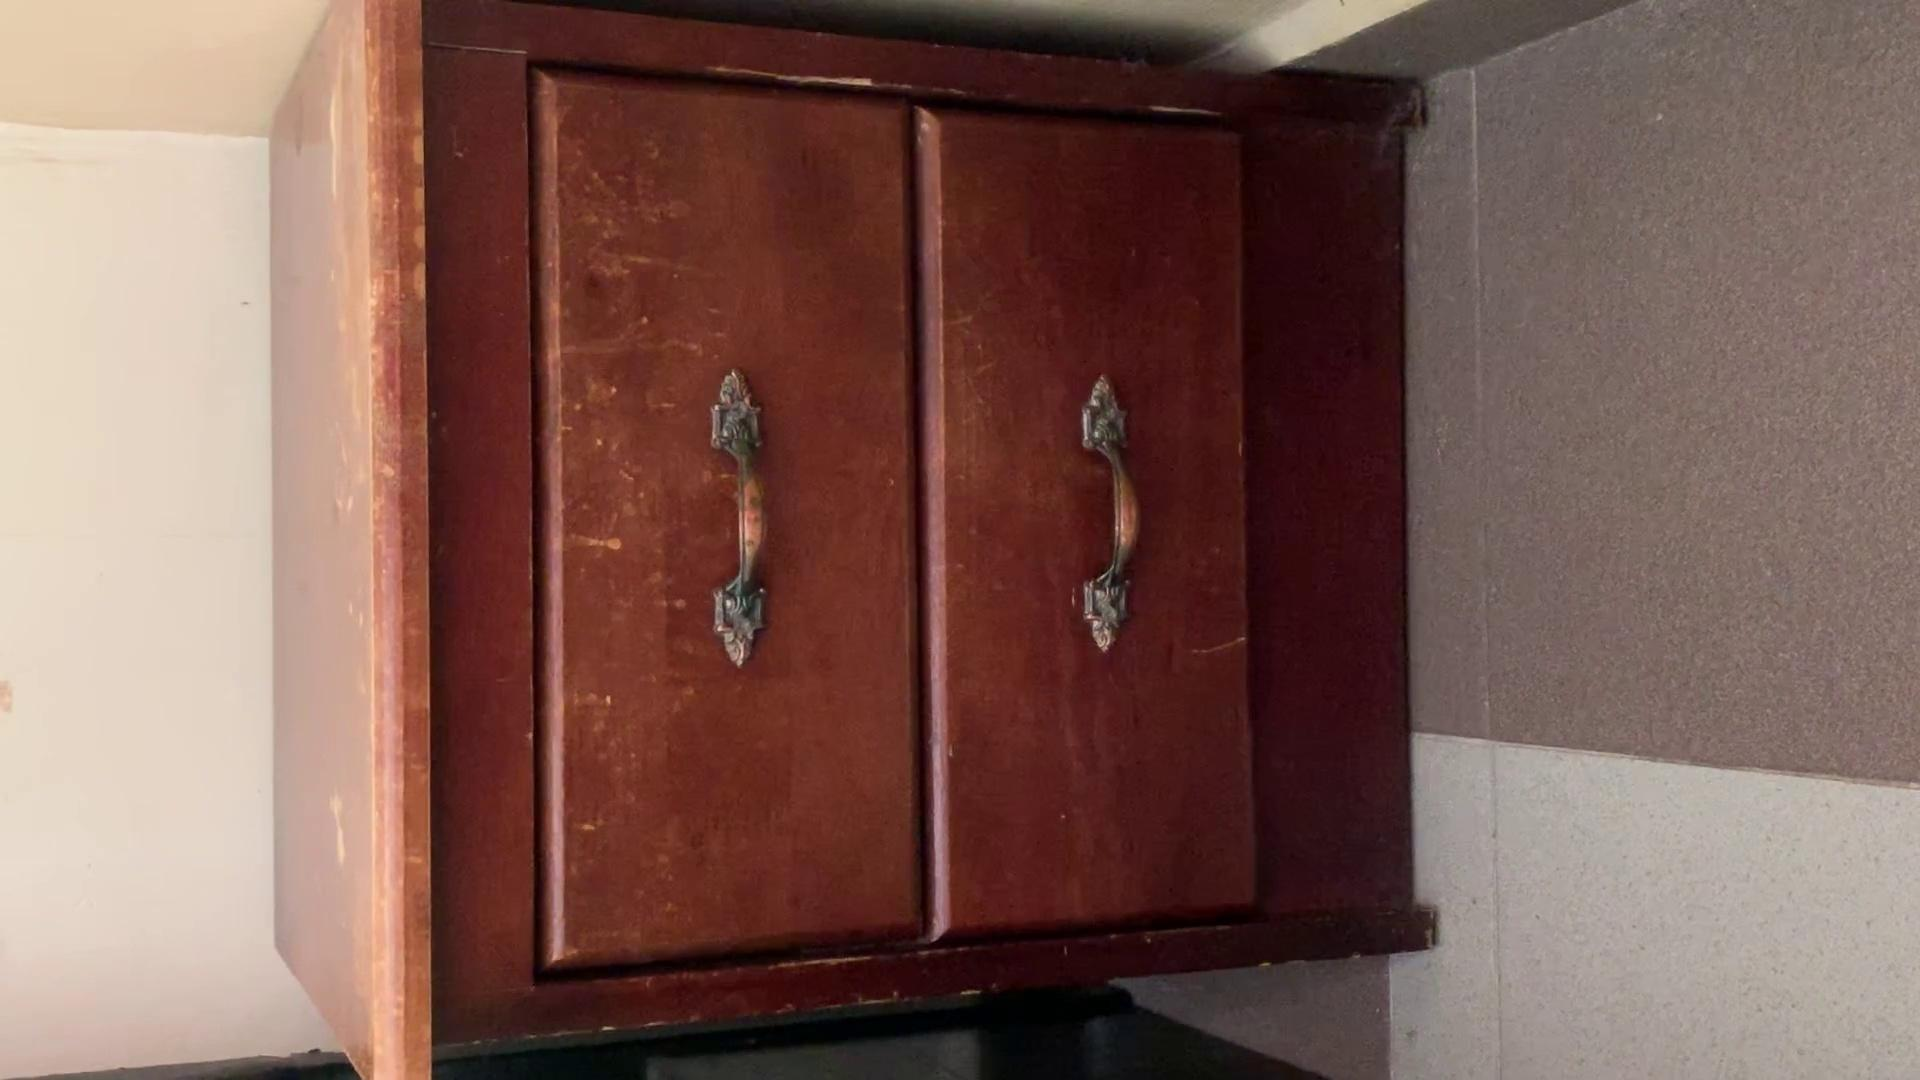cabinet_door: (539, 91, 919, 955), (936, 117, 1257, 931)
handle: (1054, 375, 1162, 659), (695, 367, 789, 674)
